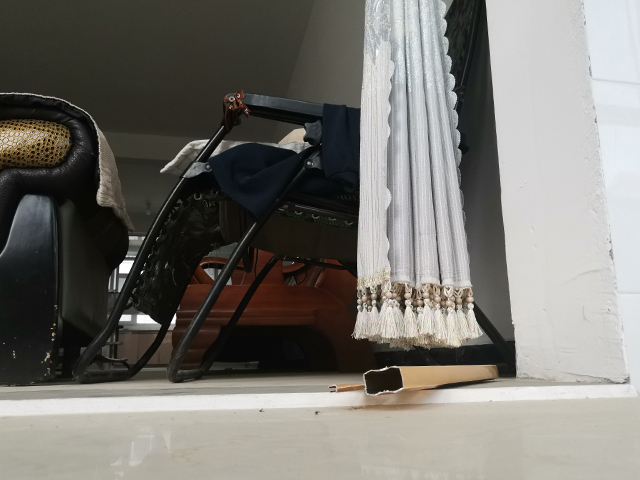curtain: (348, 1, 487, 351)
sofa: (1, 90, 136, 387)
stool: (70, 1, 510, 385)
